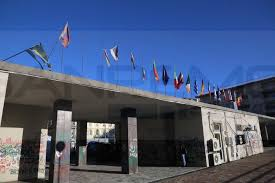Flag: (26, 43, 51, 70), (58, 21, 71, 49), (110, 44, 119, 62), (103, 48, 111, 66), (152, 62, 160, 80), (162, 65, 169, 85), (130, 49, 136, 69), (173, 66, 178, 89), (178, 72, 184, 89), (193, 79, 198, 95), (186, 74, 190, 93), (141, 66, 146, 77), (201, 80, 204, 95), (208, 81, 210, 95)
